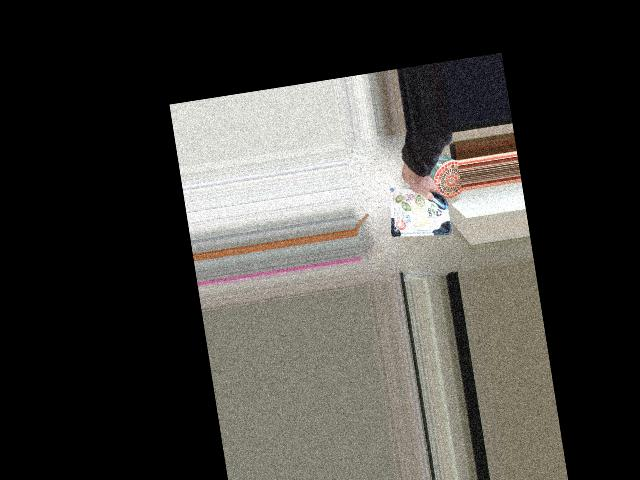cheese: (384, 172, 441, 226)
